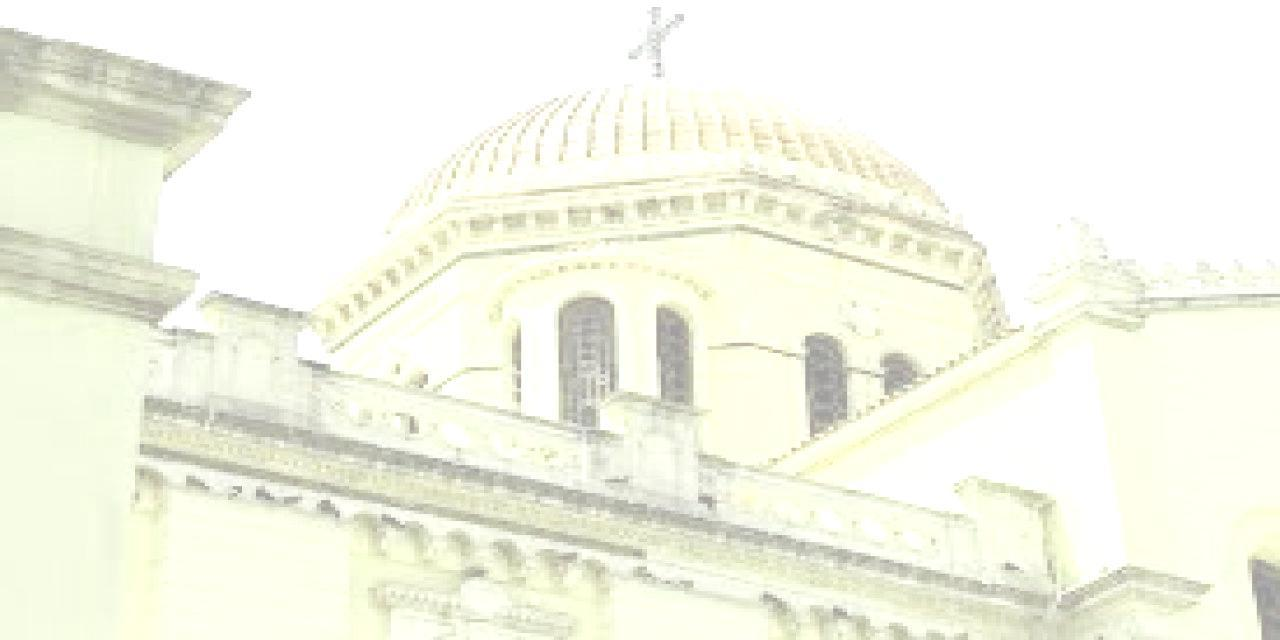Agios Minas: (1, 1, 1279, 640)
